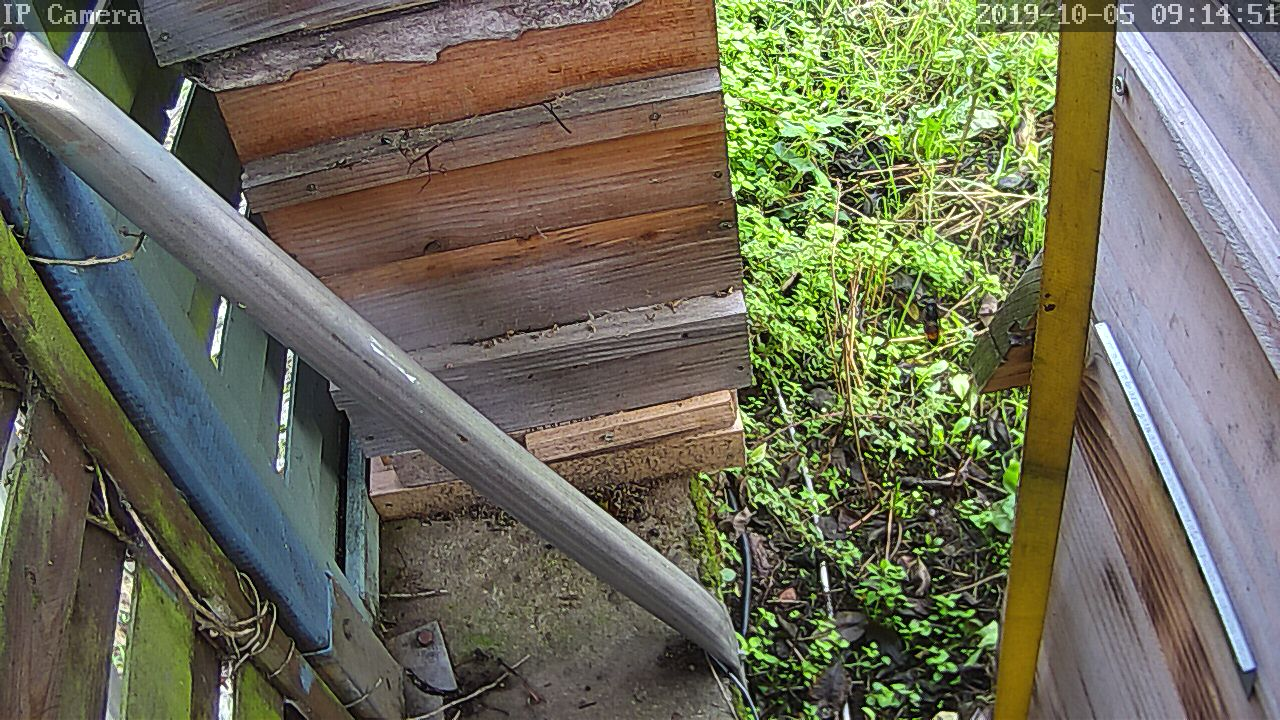hornet: (906, 290, 942, 347), (792, 163, 821, 205)
